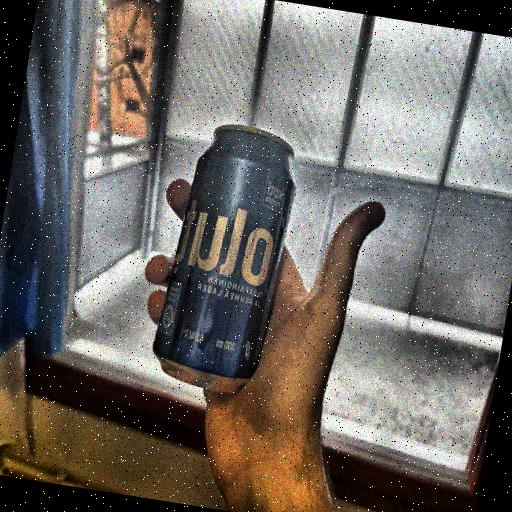koti: (162, 112, 301, 401)
